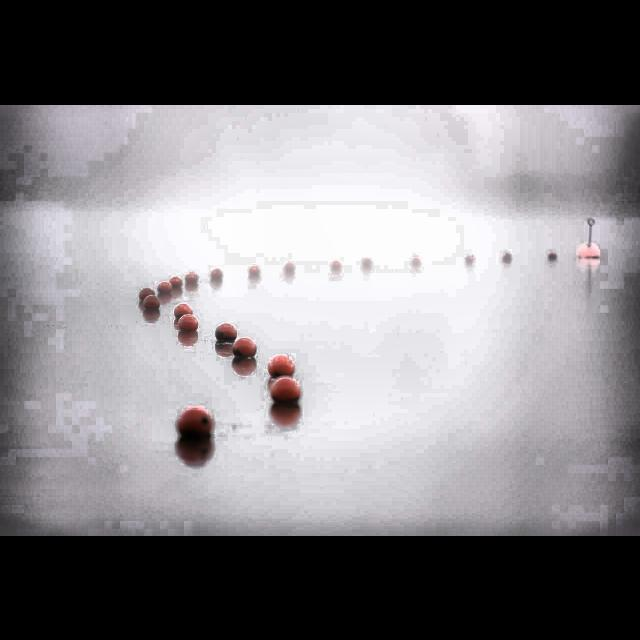buoy: (170, 403, 220, 443), (576, 218, 602, 262), (271, 373, 301, 407), (268, 353, 296, 379), (232, 334, 258, 361), (215, 320, 238, 344), (178, 312, 200, 334), (172, 300, 195, 320), (142, 292, 162, 314), (136, 285, 156, 305), (156, 278, 172, 296), (169, 274, 183, 290), (184, 270, 198, 284), (210, 267, 224, 279), (248, 264, 260, 276), (284, 261, 296, 273), (362, 256, 372, 268), (332, 259, 341, 271)
